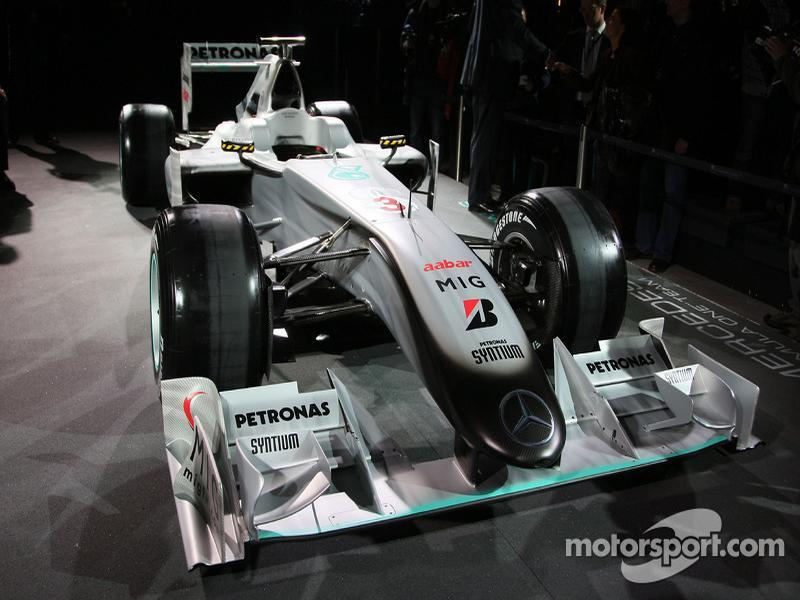f1: (112, 38, 746, 518)
